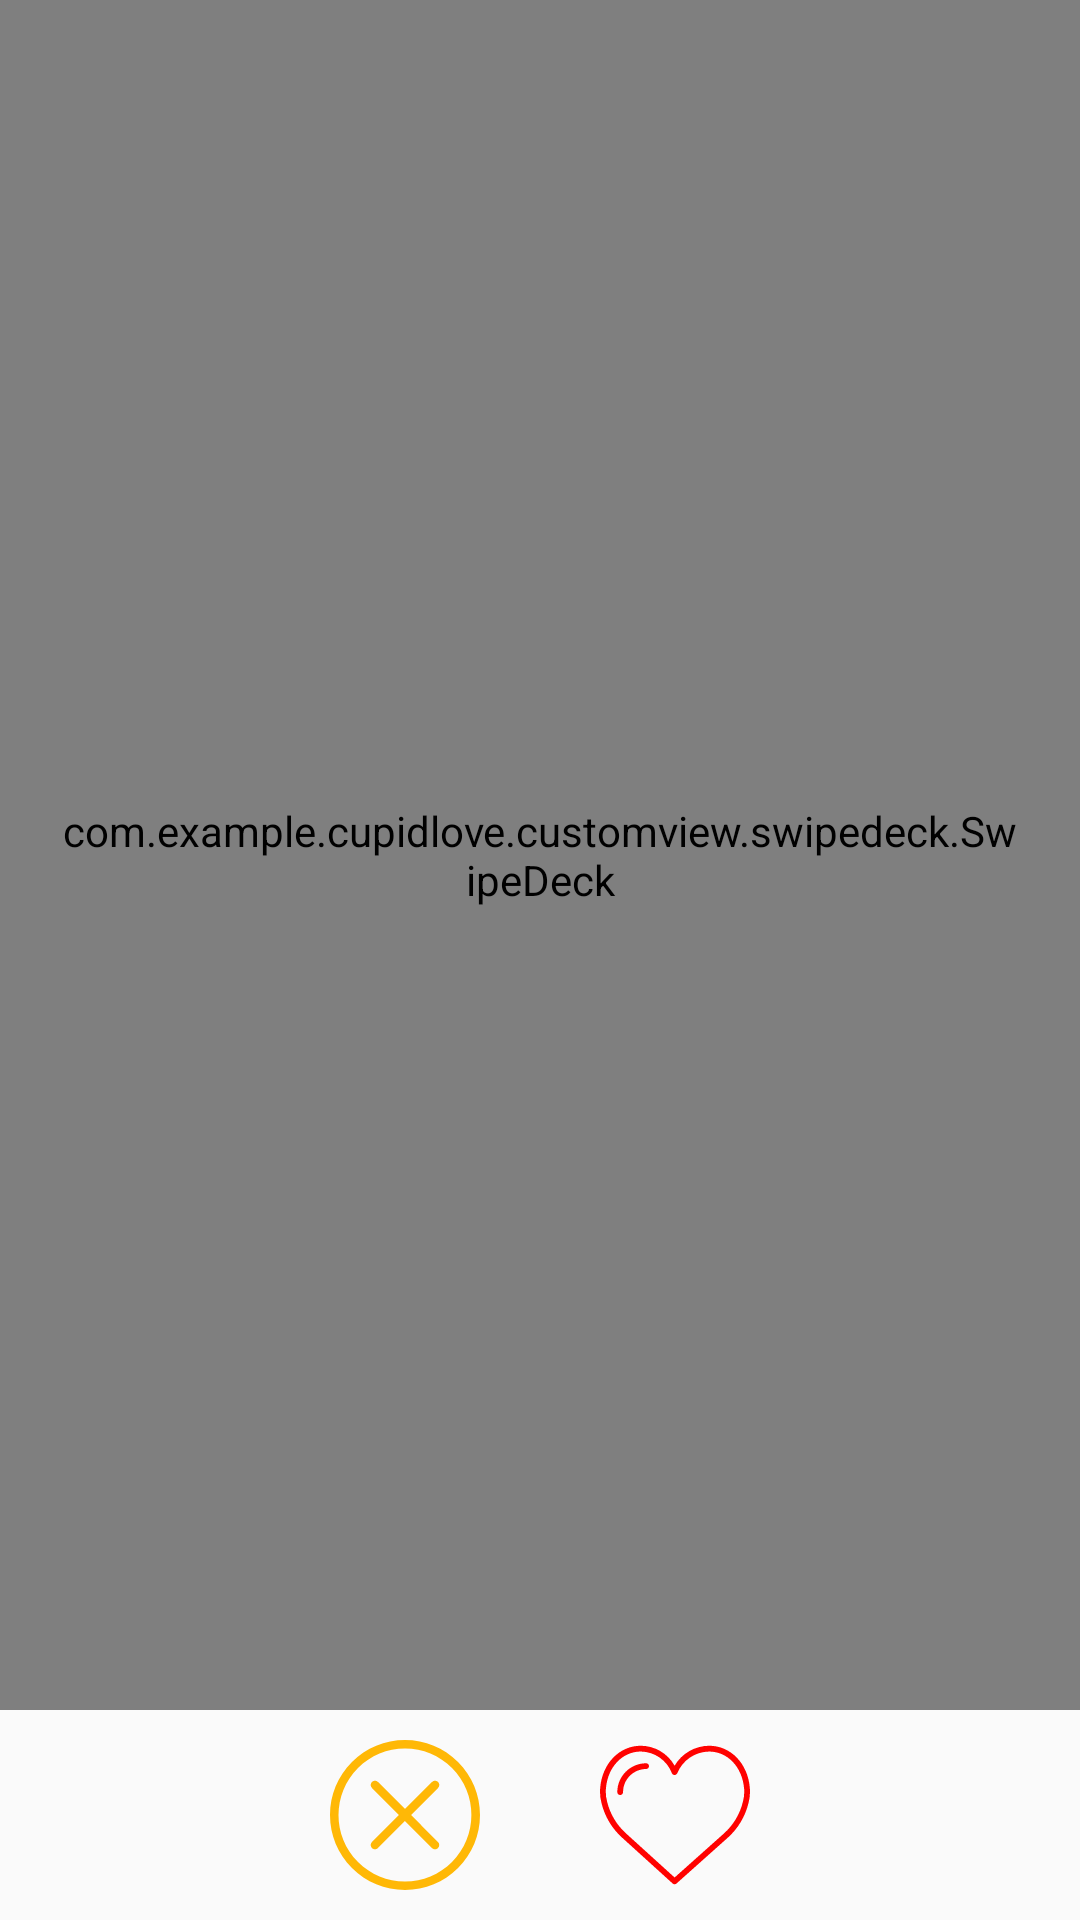

Icon click points for this 1080px x 1920px phone screenshot, format point (x, y):
cancel: point (405, 1815)
heart like: point (675, 1815)
